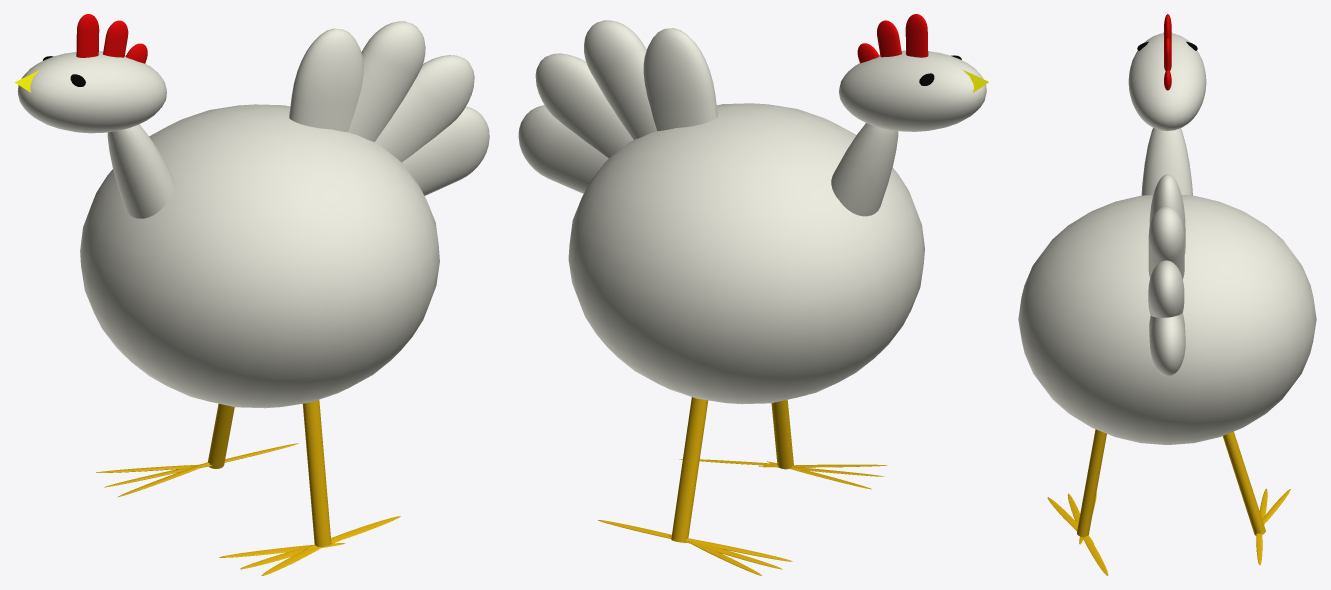
Rendered from Chickenv2.fbx.
3 views of the same model, side by side, from view 1: azimuth 30°, elevation 25°; view 2: azimuth 150°, elevation 25°; view 3: azimuth 270°, elevation 25° (orthographic). The views are drawn at different scales.
Parts seen in each view (by area): view 1: Body; view 2: Body; view 3: Body.
Part boxes in pixels (bbox=[...]): Body: bbox=[14, 14, 489, 575]; Body: bbox=[518, 14, 988, 575]; Body: bbox=[1018, 14, 1316, 575].
Bounding box in the file's own units: 152 × 166 × 100.
